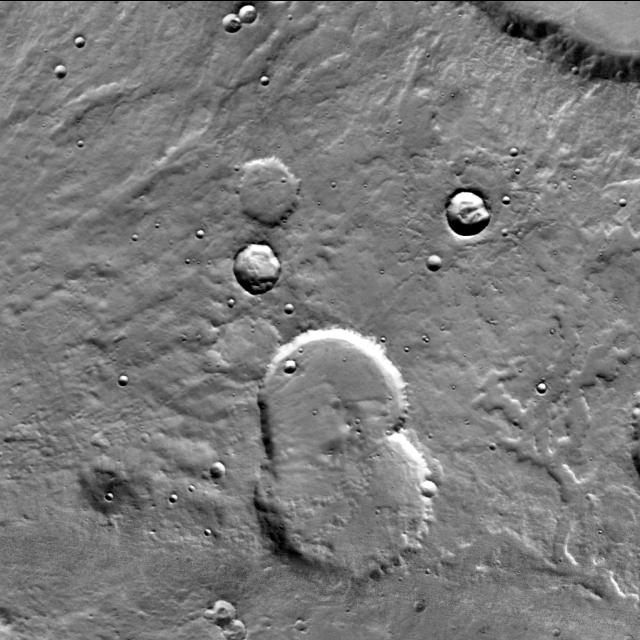crater: (256, 402, 436, 584), (257, 324, 408, 478), (216, 309, 282, 376), (236, 154, 300, 220), (77, 451, 133, 508), (234, 238, 282, 288), (446, 188, 488, 232), (211, 595, 238, 623), (226, 614, 248, 638), (222, 7, 242, 27), (238, 0, 257, 18), (420, 474, 438, 492), (92, 428, 109, 444), (210, 457, 226, 473), (428, 252, 442, 266), (54, 60, 67, 73), (284, 355, 296, 368), (415, 596, 427, 608), (535, 377, 546, 388), (296, 616, 308, 626), (76, 31, 86, 42), (118, 369, 128, 380), (42, 441, 52, 452), (331, 394, 342, 404), (196, 223, 206, 233), (260, 70, 270, 80), (284, 299, 294, 309), (141, 426, 151, 436), (206, 606, 216, 616), (625, 631, 634, 640), (572, 61, 580, 70), (169, 488, 177, 496), (104, 487, 112, 495), (504, 150, 512, 158), (503, 191, 511, 199), (226, 294, 234, 302), (546, 630, 554, 638), (619, 193, 627, 201), (132, 229, 140, 237), (490, 436, 498, 444), (189, 608, 197, 616), (501, 224, 508, 232), (198, 530, 204, 538), (72, 142, 78, 148), (228, 167, 234, 173)
